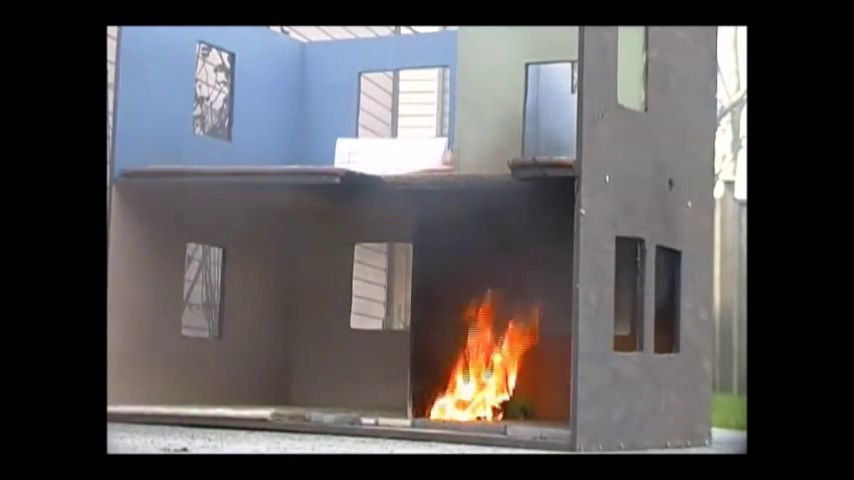fire: (434, 308, 521, 420)
